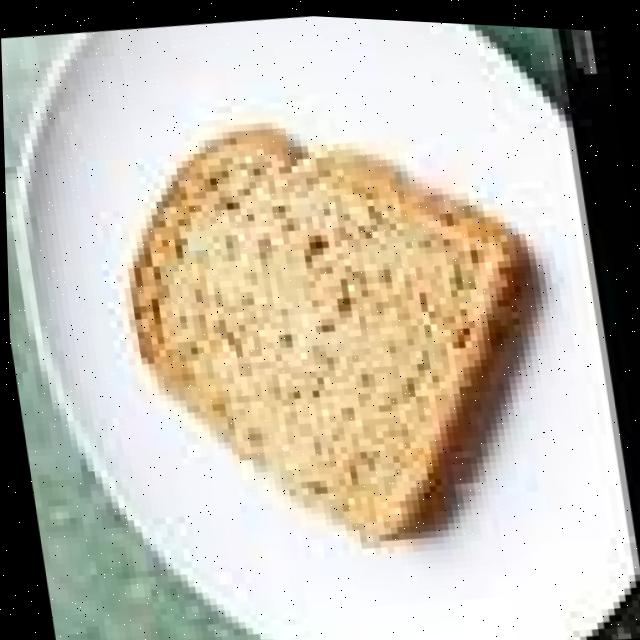Bread: (129, 126, 523, 537)
